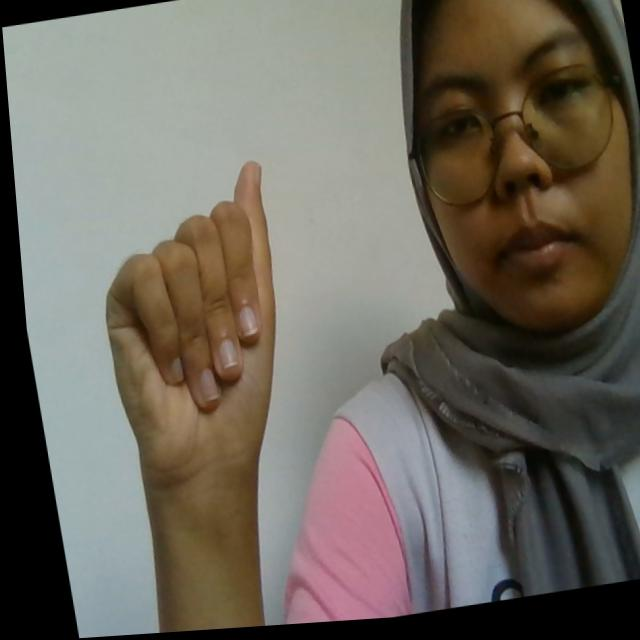A: (79, 161, 303, 475)
